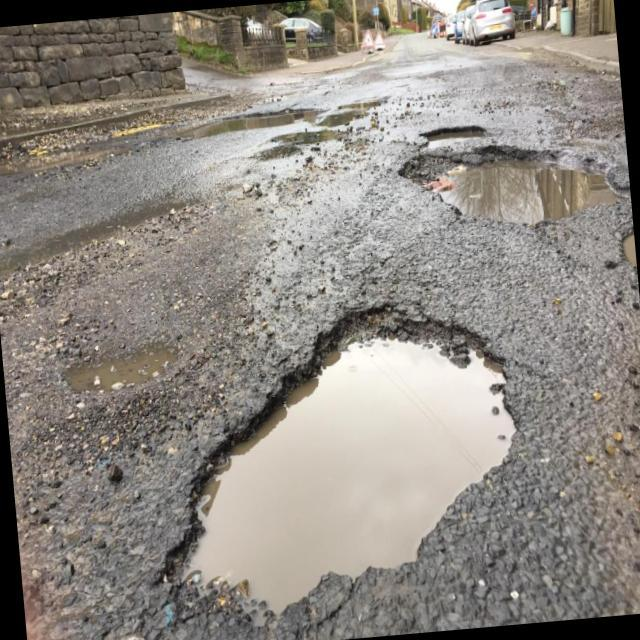Pothole: (227, 332, 508, 602), (405, 138, 613, 249), (61, 326, 182, 399), (418, 112, 489, 148), (323, 102, 368, 136)
